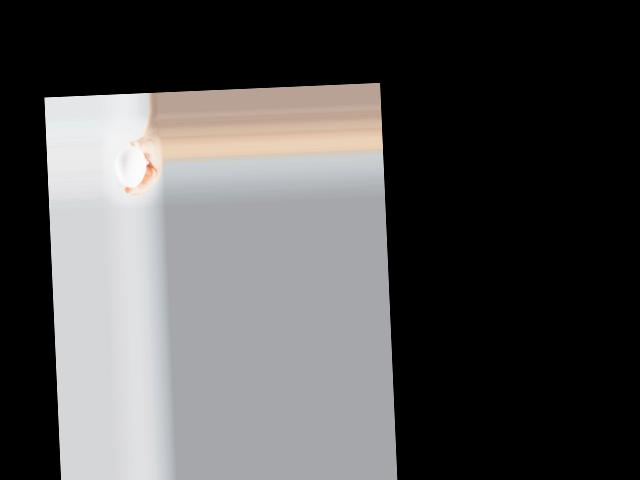egg: (114, 145, 146, 188)
